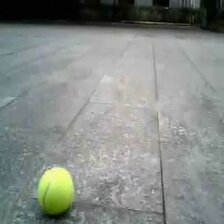tennis: (40, 168, 74, 210)
